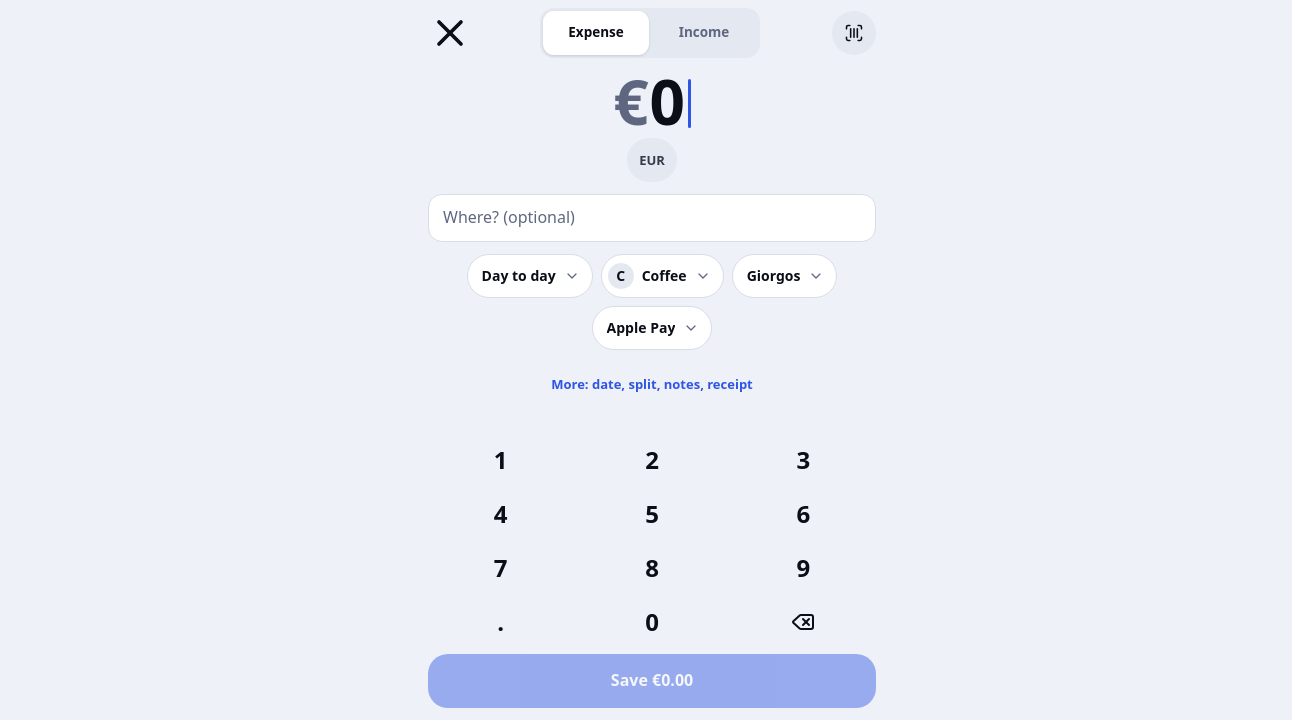
Scenario: income: green state, Received by, optional budget, no method pill, transfer, no duplicate check
The width and height of the screenshot is (1292, 720).
Click the button "Income": coordinates (704, 33) [651,11,757,55]
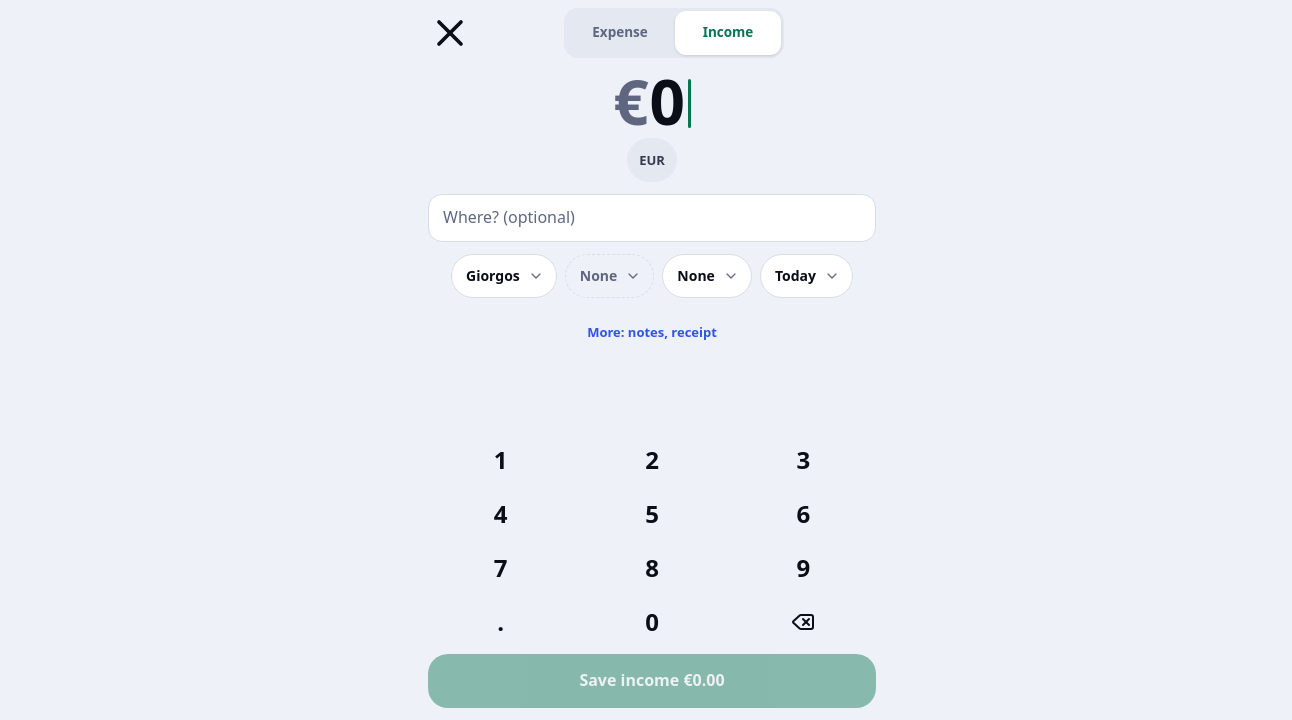
Expected: the element with class "composer" is shown, [412,0,892,719]
Expected: the button with aria-label "Received by: Giorgos. Change" is shown, [451,254,557,298]
Expected: the button with aria-label "Bucket: None. Change" is shown, [662,254,752,298]
Click the button "7": coordinates (501, 568) [428,544,573,592]
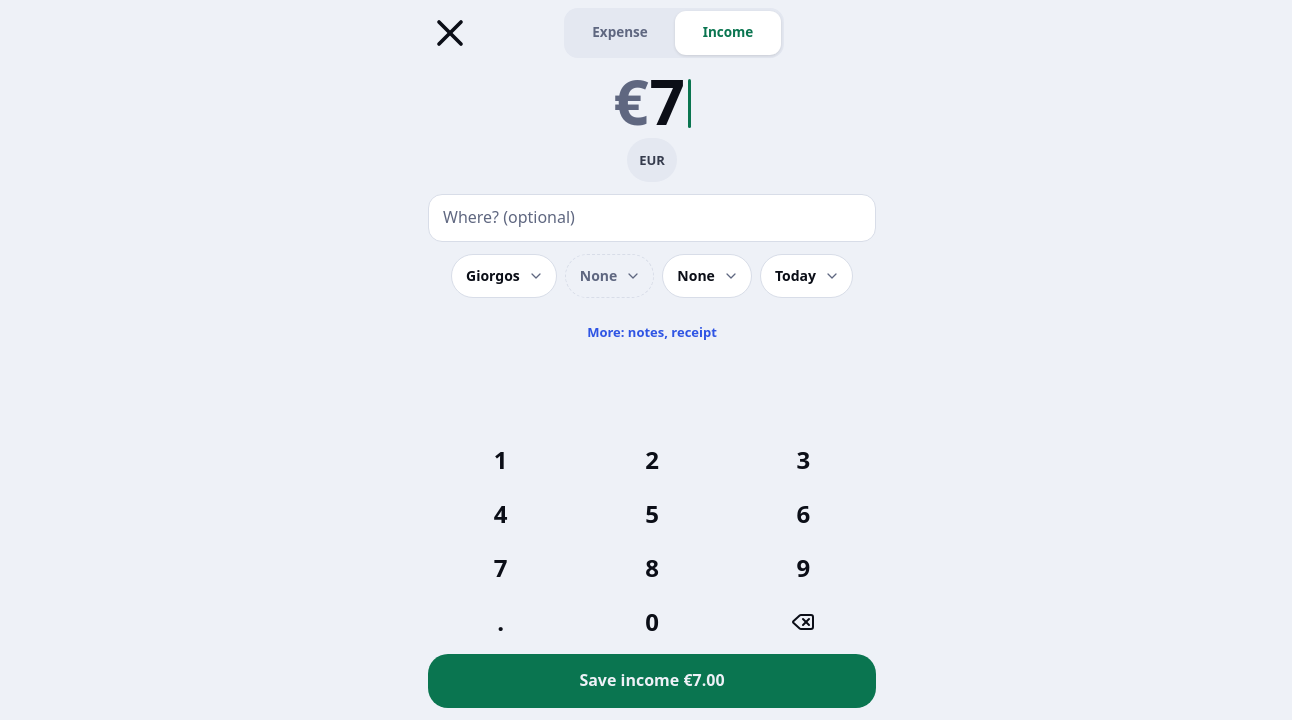
Click the button "0": coordinates (652, 622) [579,598,725,646]
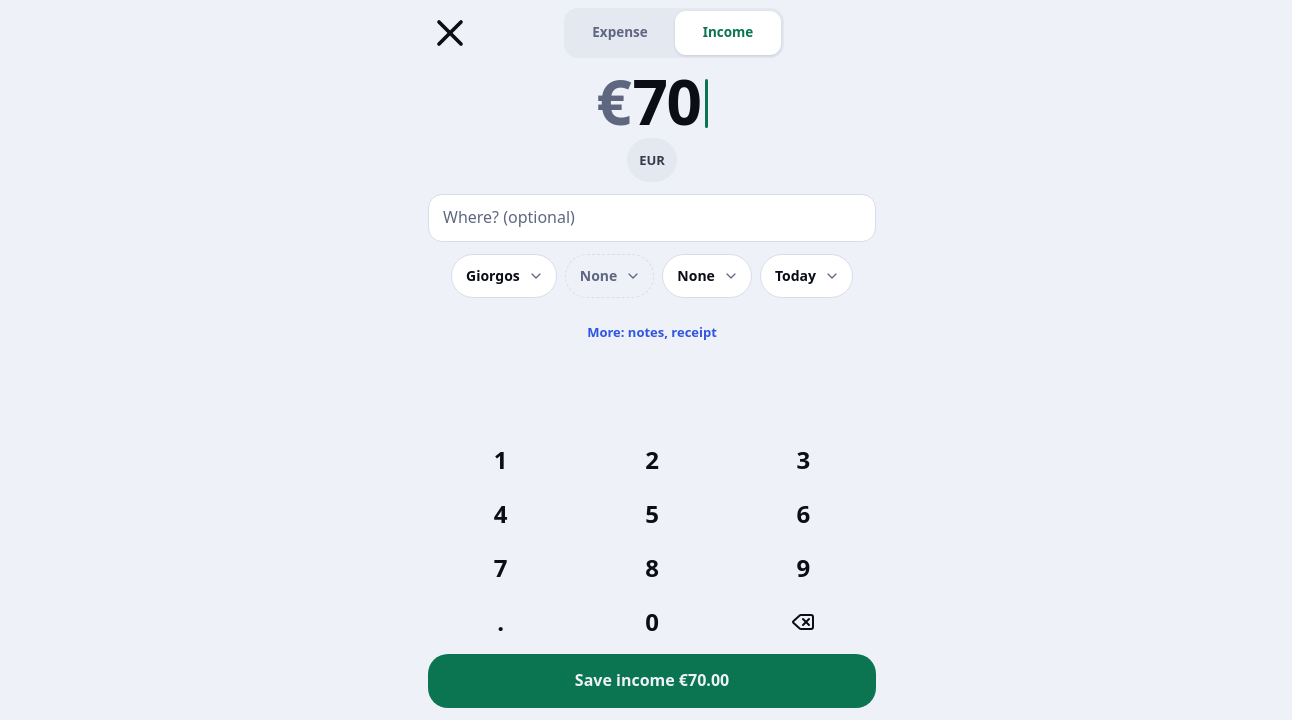
Click the button "0": coordinates (652, 622) [579,598,725,646]
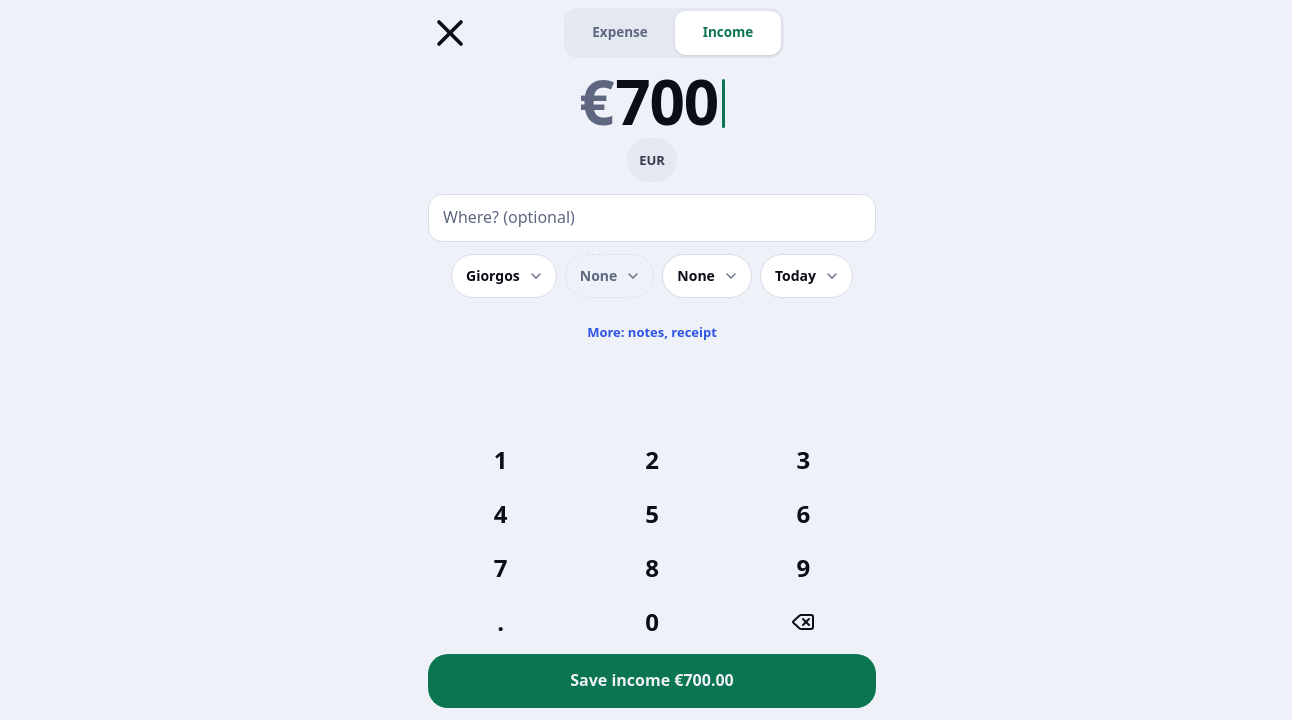
Click the button with aria-label "Save income 700 euro": coordinates (652, 681) [428,654,876,708]
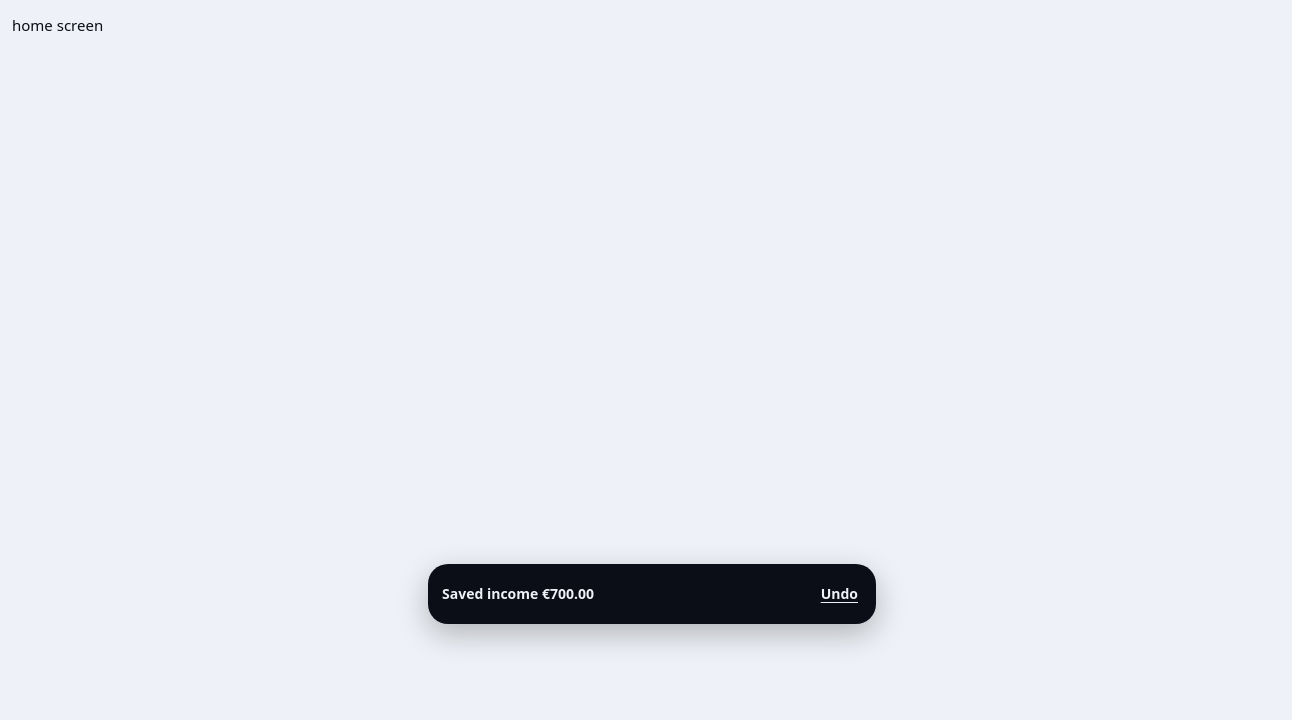
Expected: the text "home screen" is shown, [12,15,103,35]
